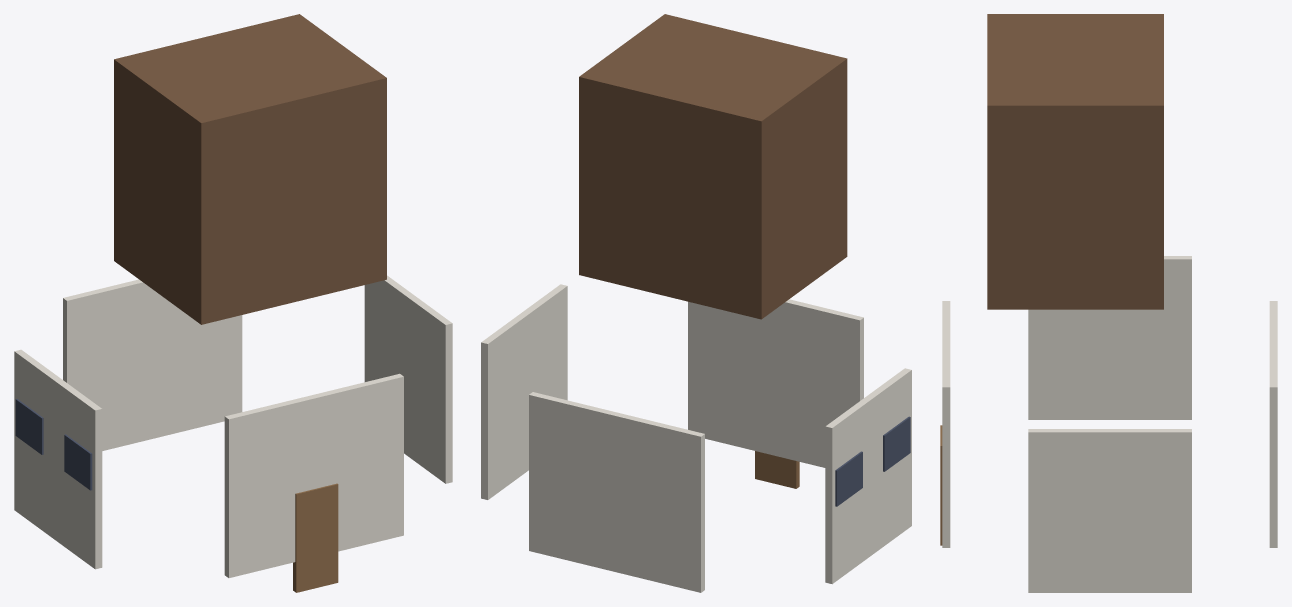
Rendered from maison_001_v1.glb.
The picture shows the model from 3 angles, left to right: view 1: azimuth 30°, elevation 25°; view 2: azimuth 150°, elevation 25°; view 3: azimuth 270°, elevation 25°; orthographic projection. The views are drawn at different scales.
Parts seen in each view (by area): view 1: maison; view 2: maison; view 3: maison.
Boxes of the visible parts, x1,y1,x2,y2 form: maison: (14, 14, 452, 592); maison: (481, 14, 911, 592); maison: (940, 14, 1277, 592).
Size of the model in its own units: 3.07 by 3.85 by 2.48.
